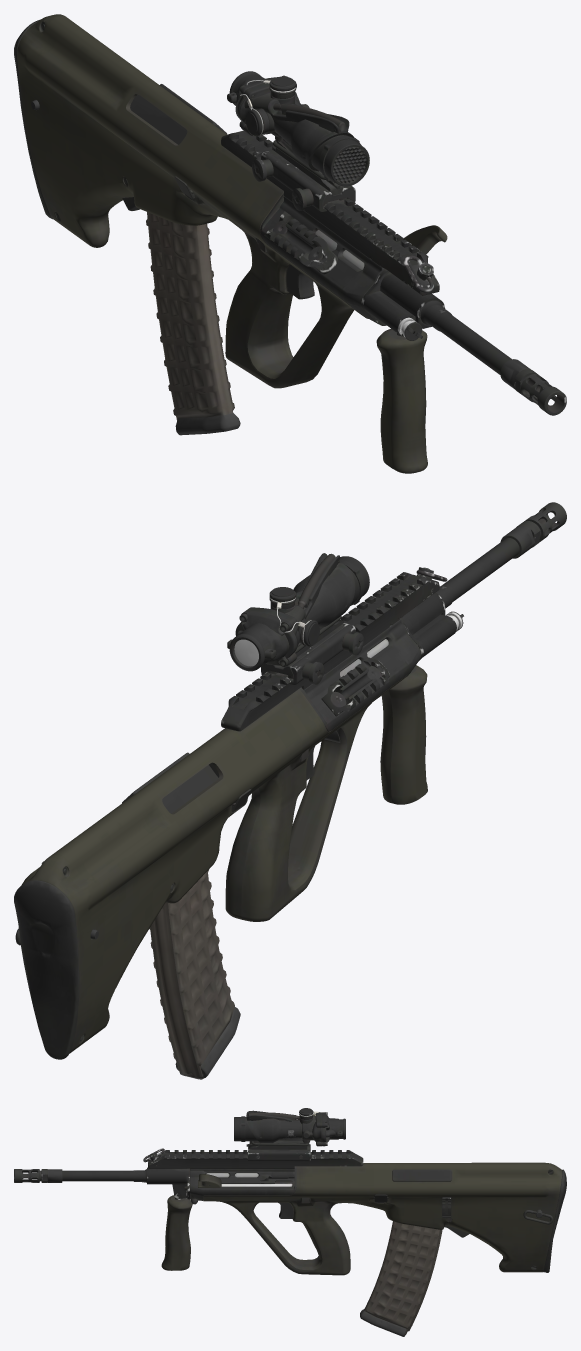
File: aug.glb
3 views of the same model, one above another, from view 1: azimuth 30°, elevation 25°; view 2: azimuth 150°, elevation 25°; view 3: azimuth 270°, elevation 25° (orthographic). The views are drawn at different scales.
Parts seen in each view (by area): view 1: AUG_CS2_weapon_rif_aug_0; view 2: AUG_CS2_weapon_rif_aug_0; view 3: AUG_CS2_weapon_rif_aug_0.
Boxes of the visible parts, x1,y1,x2,y2 form: AUG_CS2_weapon_rif_aug_0: (14,14,566,473); AUG_CS2_weapon_rif_aug_0: (14,502,566,1079); AUG_CS2_weapon_rif_aug_0: (14,1108,566,1336).
Size of the model in its own units: 0.0941 by 0.3434 by 0.7693.
Materials: 2 (1 with a texture image).
